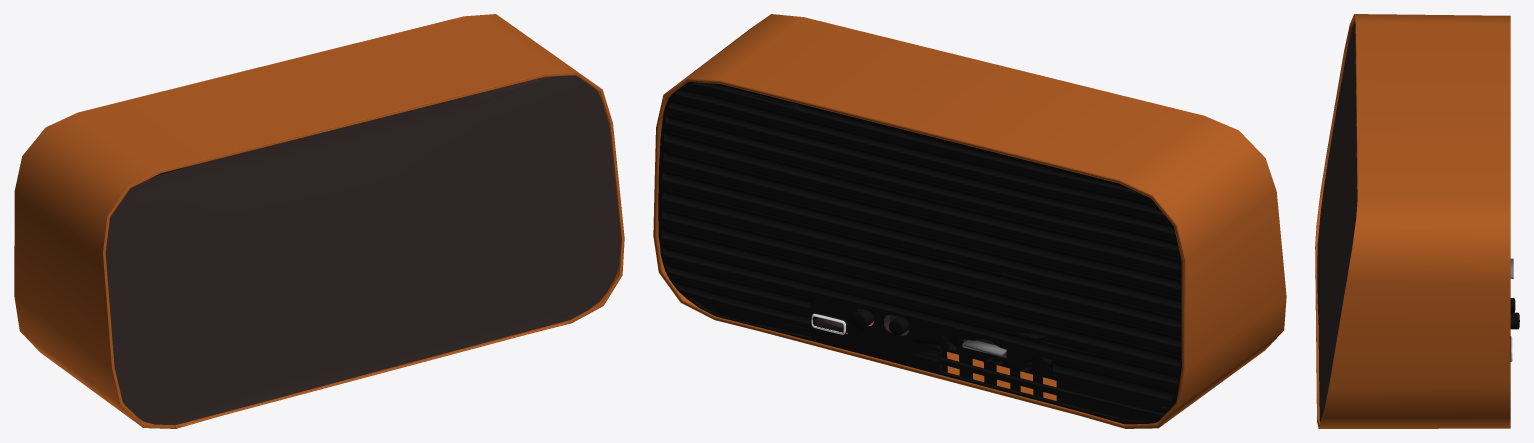
File: uploads_files_3482471_12.obj
3 renders of one model, left to right at view 1: azimuth 30°, elevation 25°; view 2: azimuth 150°, elevation 25°; view 3: azimuth 270°, elevation 25°, orthographic. The views are drawn at different scales.
Parts seen in each view (by area): view 1: Object004, ChamferBox001; view 2: Object008, ChamferBox001; view 3: ChamferBox001, Object004.
Part boxes in pixels (x1,y1,x2,y2): Object004: (105, 75, 620, 425); ChamferBox001: (14, 14, 624, 428); Object008: (658, 82, 1181, 424); ChamferBox001: (653, 14, 1286, 428); ChamferBox001: (1315, 14, 1510, 428); Object004: (1317, 22, 1357, 421).
Bounding box in the file's own units: 455 × 209 × 166.
